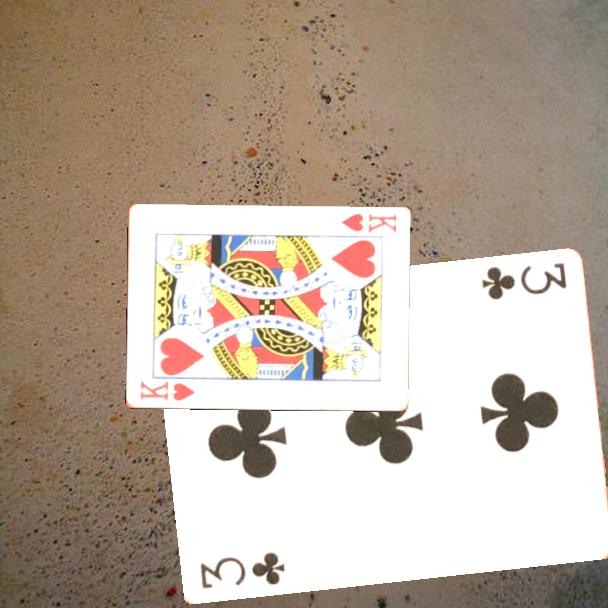c03: (477, 259, 569, 303), (196, 549, 288, 592)
h13: (338, 210, 399, 236), (137, 378, 197, 404)
